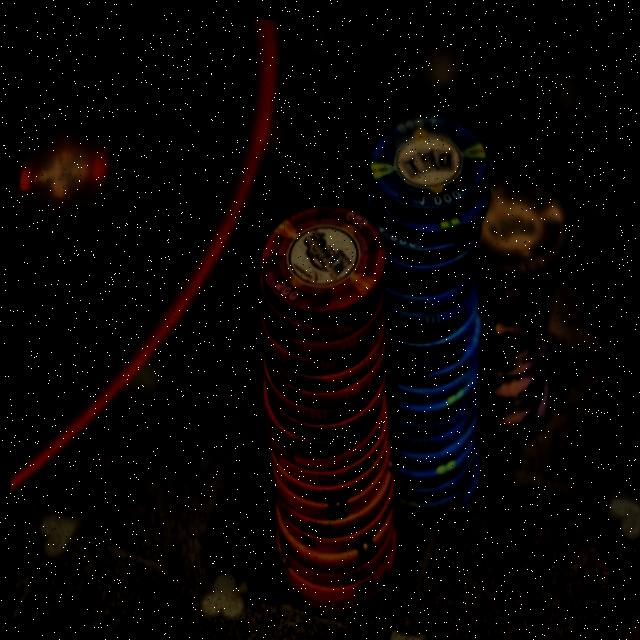Chip: (236, 181, 418, 620), (342, 100, 501, 538), (462, 151, 585, 453)
